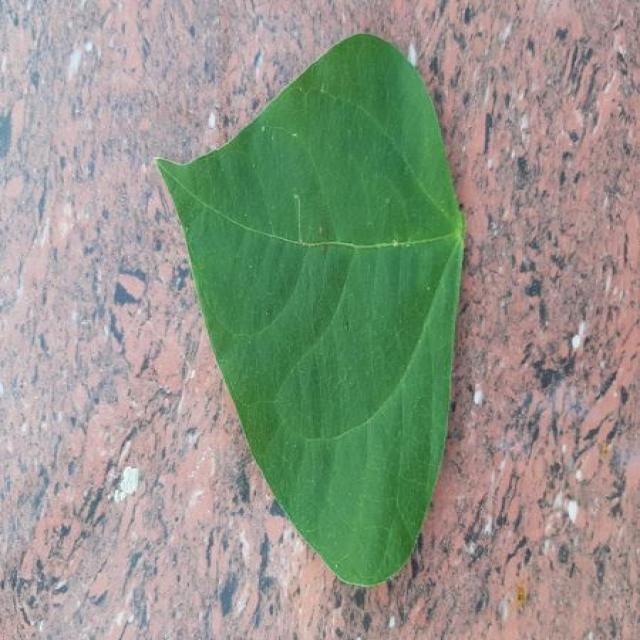beans: (157, 35, 463, 585)
